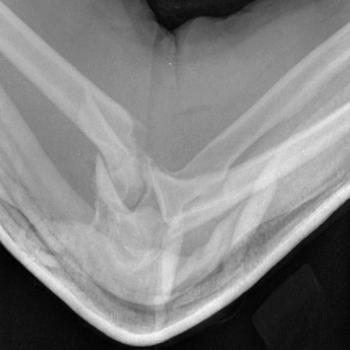Fracture: (102, 115, 156, 210)
